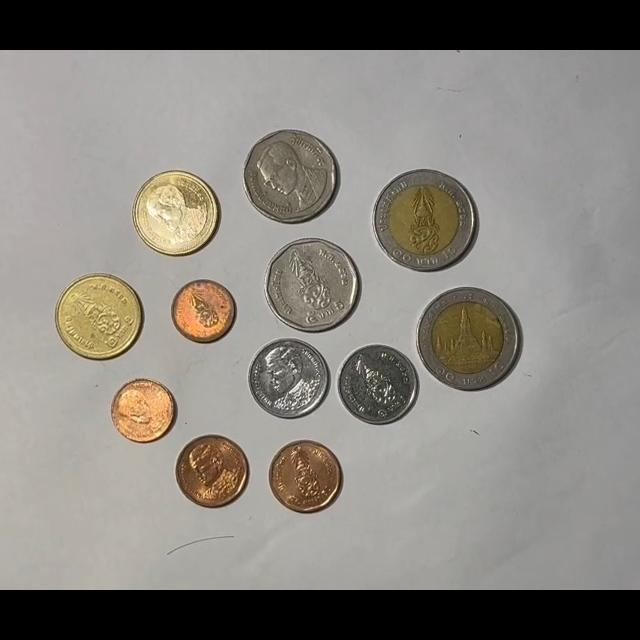1-baht: (337, 343, 419, 425), (247, 338, 329, 419)
10-baht: (415, 286, 521, 391), (372, 169, 477, 273)
2-baht: (55, 273, 142, 361), (132, 170, 219, 256)
25-satang: (111, 377, 177, 443), (172, 279, 237, 343)
5-baht: (264, 237, 362, 333), (242, 129, 339, 224)
50-satang: (175, 435, 250, 509), (268, 440, 342, 513)
